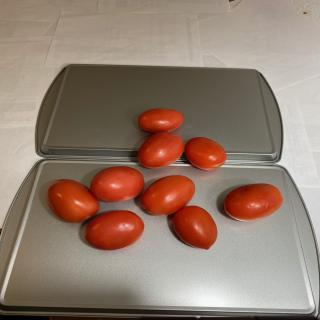Tomato: (84, 210, 144, 251), (45, 179, 100, 223), (224, 183, 284, 222), (140, 175, 196, 216), (172, 205, 218, 250), (90, 166, 144, 202), (138, 132, 185, 169), (184, 137, 227, 170), (138, 108, 184, 133)
